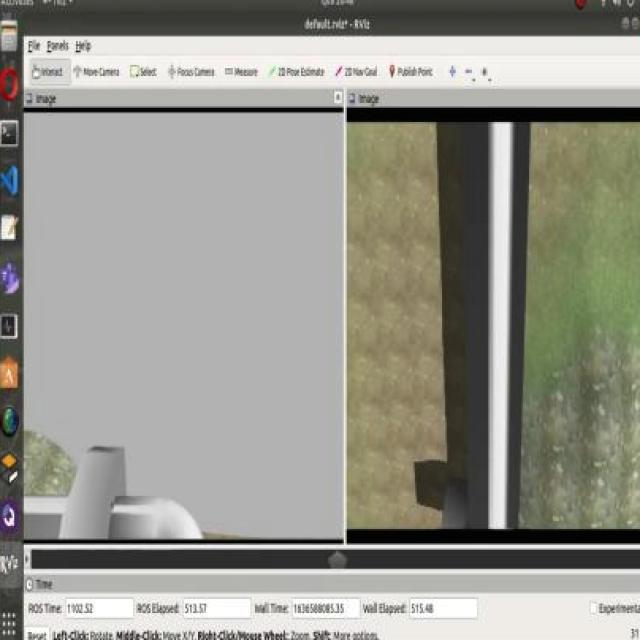gas: (483, 120, 518, 526), (25, 488, 196, 540)
